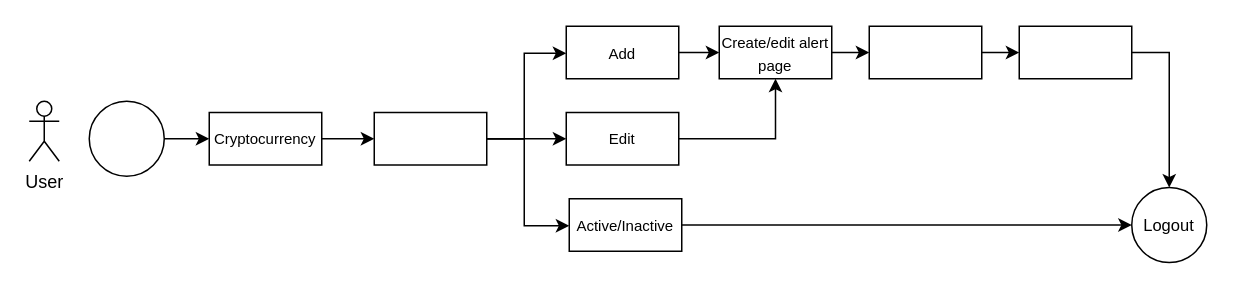
Image size: 1233x290. Some labels were removed from this diagram. Here are the shapes that lost their labels. From the top down, the centre of each, then its label:
At (925,52): "Set conditions".
At (1075,52): "Save".
At (126,138): "Login".
At (430,138): "Price Alert".
